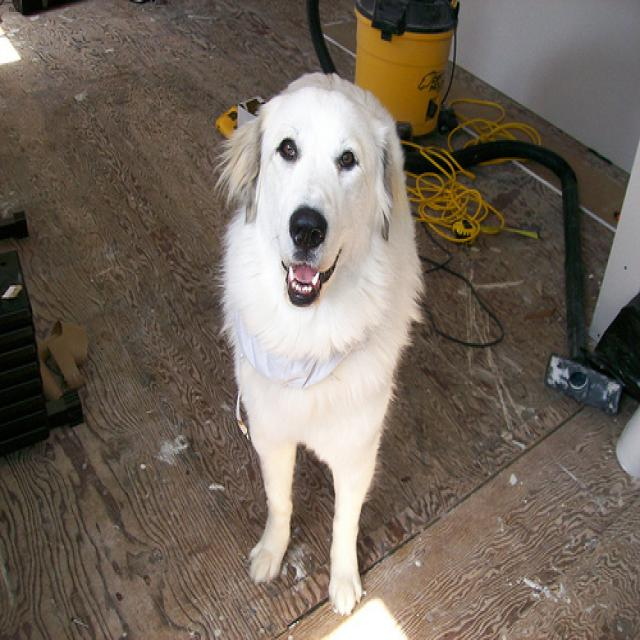dog-great_pyrenees: (207, 67, 429, 625)
